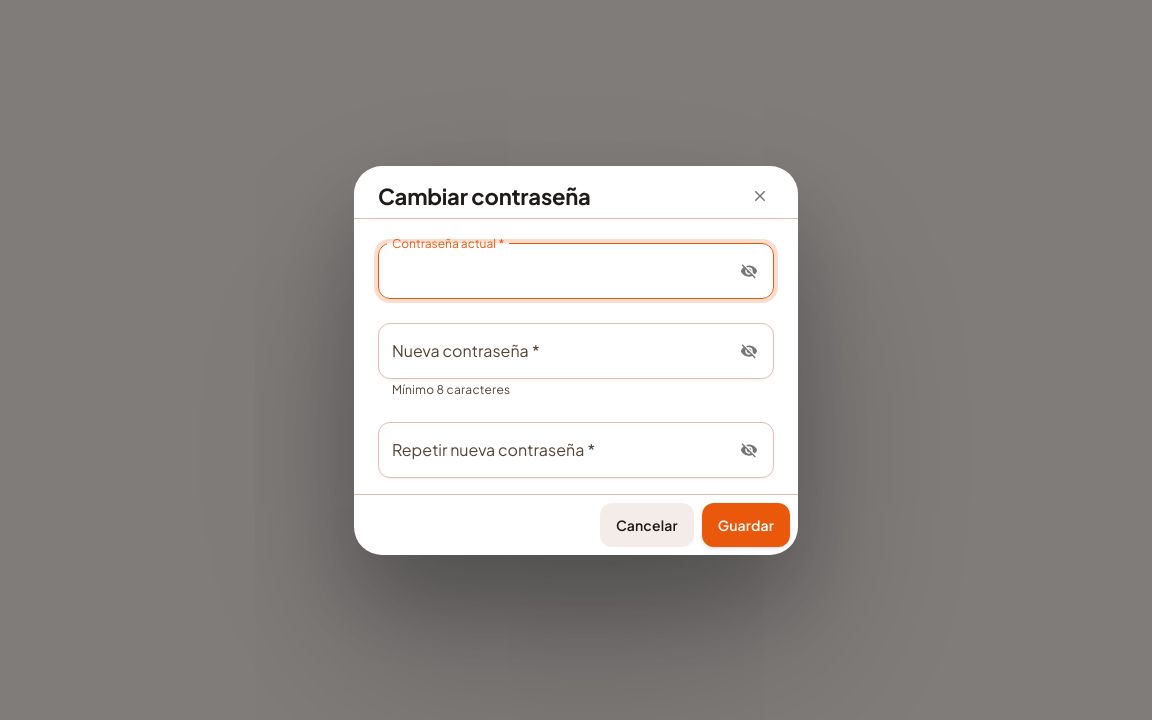
Test case: ChangePasswordDialog › blocks submit when the confirmation does not match
Step 1. Type "old-secret" into the password field labelled "Contraseña actual *" → (552, 270), box [378,242,727,298]
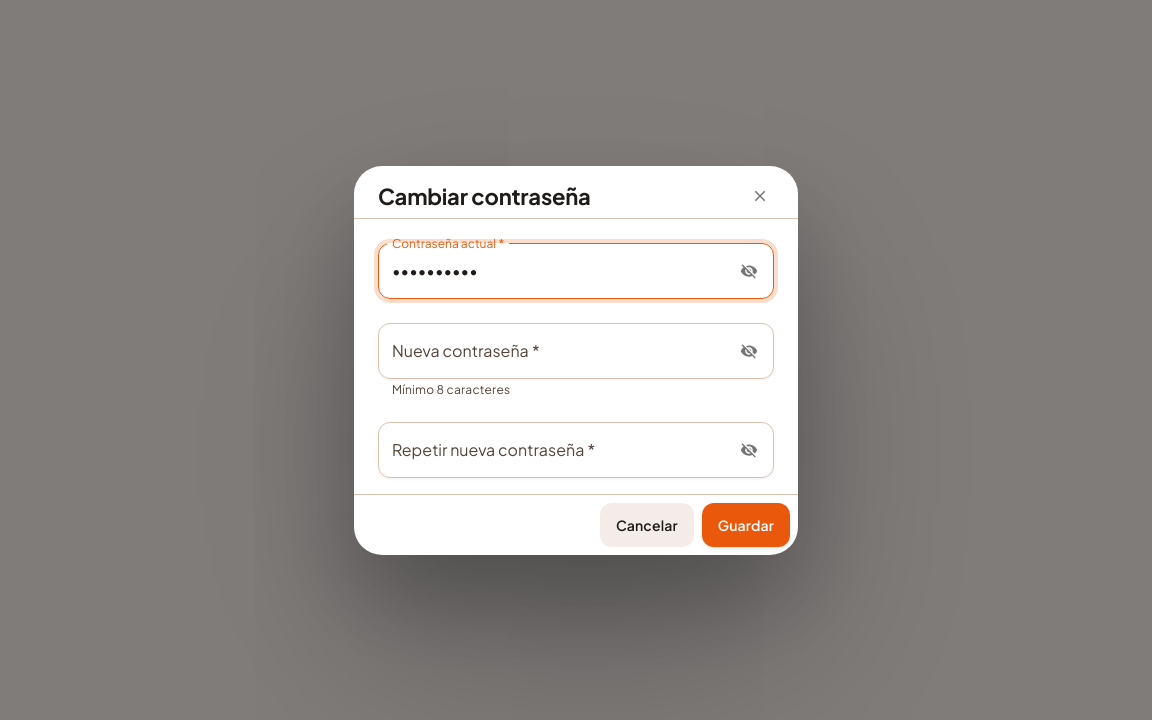
Step 2. Type "new-secret-1" into the password field labelled "Nueva contraseña *" → (552, 350), box [378,322,727,378]
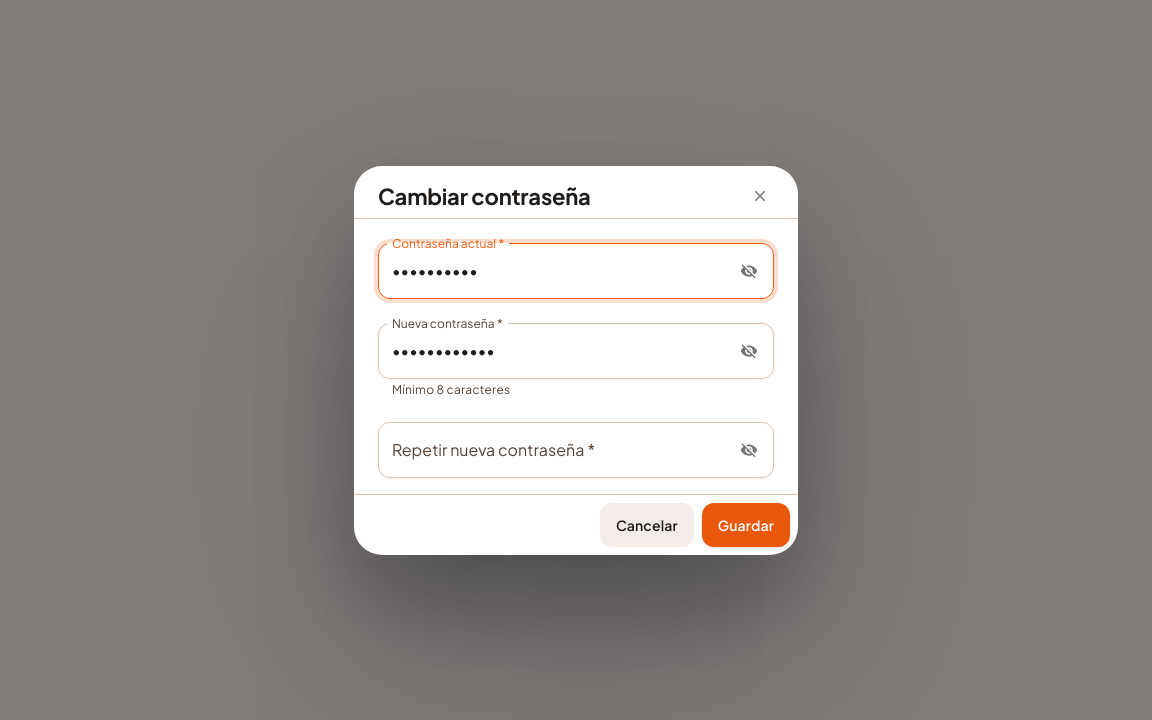
Step 3. Type "different-1" into the password field labelled "Repetir nueva contraseña *" → (552, 450), box [378,422,727,478]
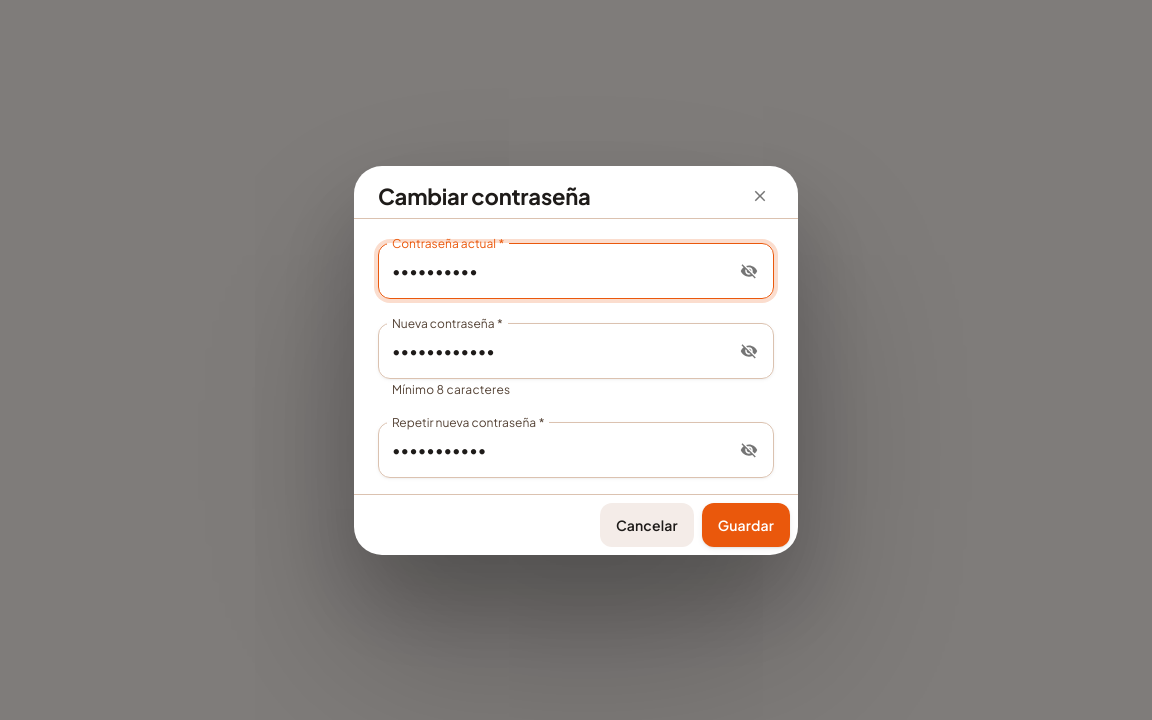
Step 4. Click the button "Guardar" → (746, 524), box [702,502,790,546]
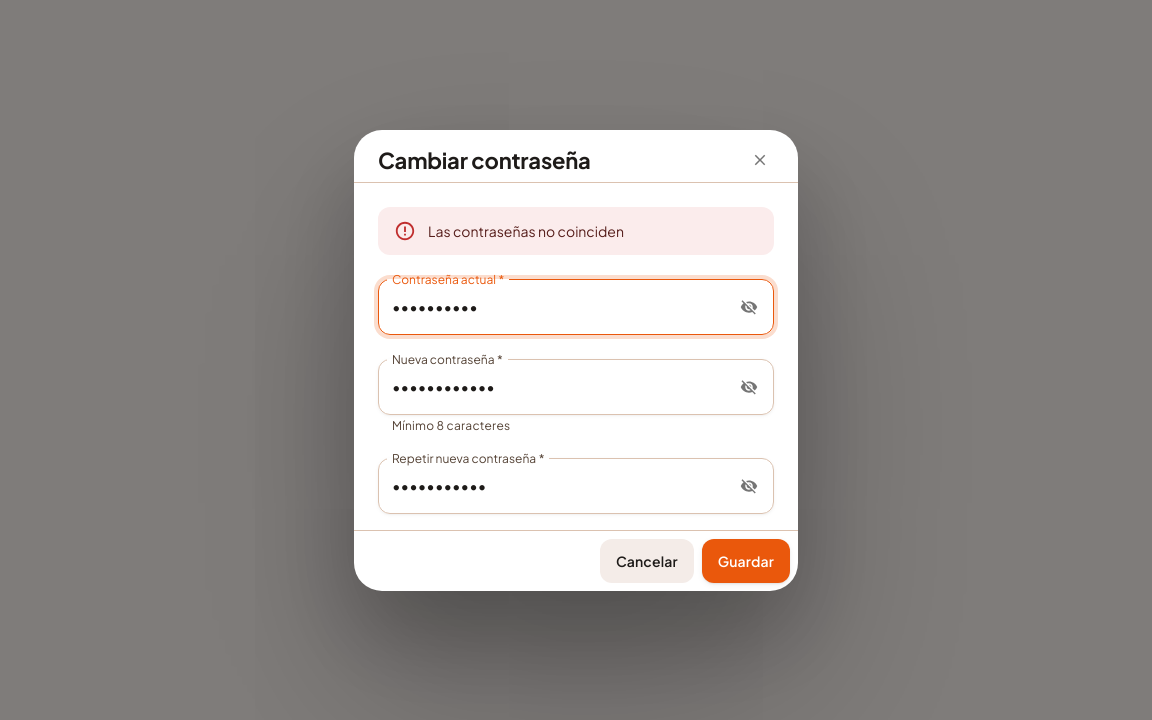
expect the text "Las contraseñas no coinciden" is shown: met, box [428,222,624,240]
